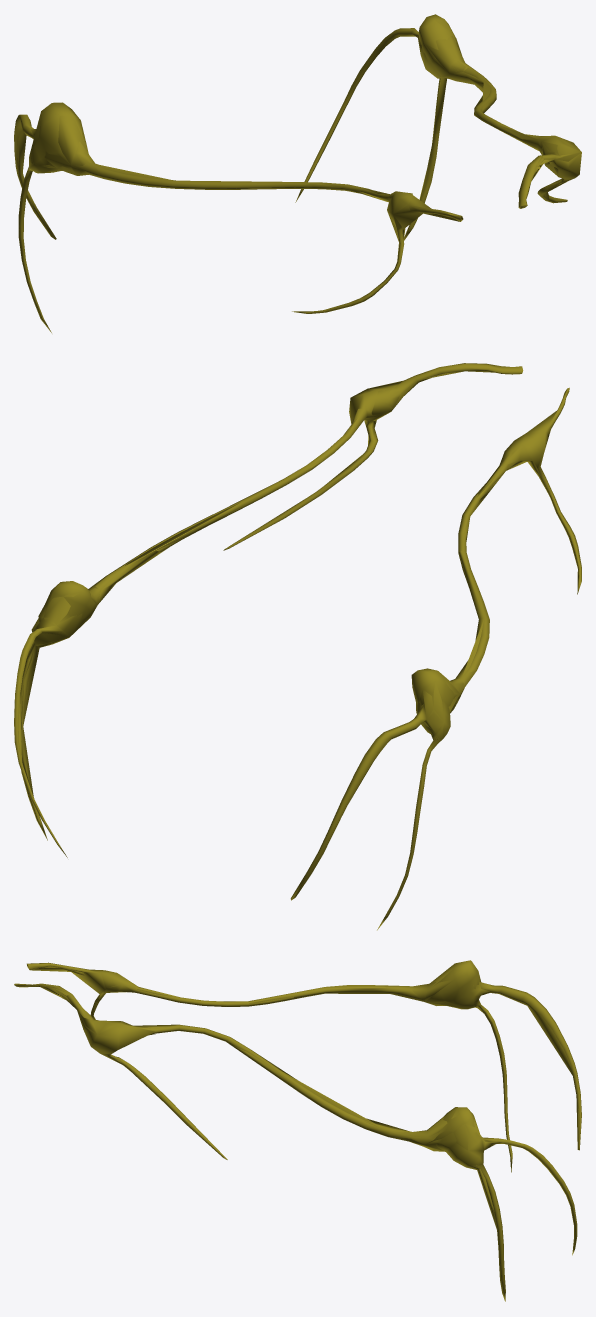
The model's file is lymphocentrum bronchale.fbx.
3 renders of one model, top to bottom at view 1: azimuth 30°, elevation 25°; view 2: azimuth 150°, elevation 25°; view 3: azimuth 270°, elevation 25°, orthographic. The views are drawn at different scales.
Parts seen in each view (by area): view 1: lymphocentrum bronchale, lymphocentrum bronchale low; view 2: lymphocentrum bronchale, lymphocentrum bronchale low; view 3: lymphocentrum bronchale, lymphocentrum bronchale low.
Boxes of the visible parts, box(x1,y1,x2,y2) form: lymphocentrum bronchale: box(14, 14, 581, 332); lymphocentrum bronchale low: box(14, 15, 581, 312); lymphocentrum bronchale: box(14, 363, 581, 930); lymphocentrum bronchale low: box(15, 363, 581, 897); lymphocentrum bronchale: box(14, 960, 581, 1301); lymphocentrum bronchale low: box(18, 962, 581, 1249).
Bounding box in the file's own units: 11.68 × 8.65 × 16.84.
